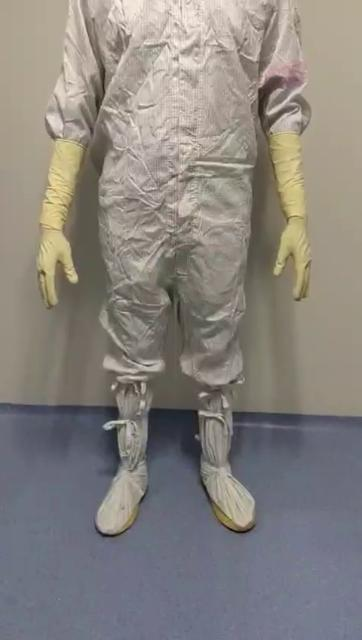boot_secured: (184, 364, 266, 546), (90, 362, 162, 556)
gloves_fitted_securely: (258, 118, 330, 302), (29, 134, 93, 316)
zip_secured: (163, 3, 209, 280)
